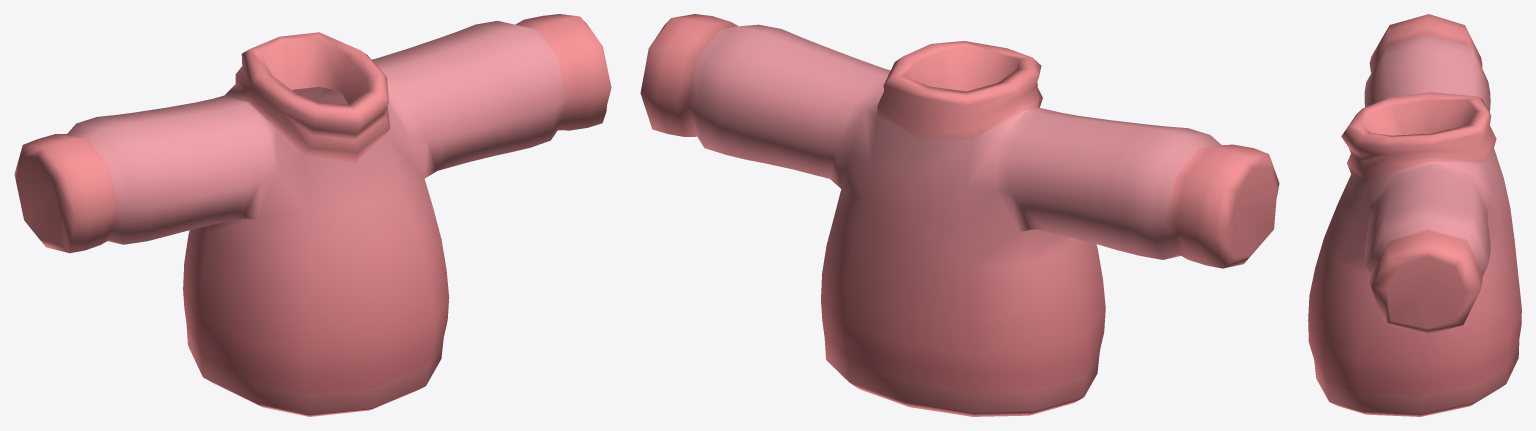
File: Top_23.fbx
3 renders of one model, left to right at view 1: azimuth 30°, elevation 25°; view 2: azimuth 150°, elevation 25°; view 3: azimuth 270°, elevation 25°, orthographic. The views are drawn at different scales.
Visible parts, largest first — view 1: Top_23; view 2: Top_23; view 3: Top_23.
Boxes of the visible parts, box(x1,y1,x2,y2) form: Top_23: box(14, 14, 611, 416); Top_23: box(640, 14, 1279, 416); Top_23: box(1308, 14, 1521, 416).
Size of the model in its own units: 98 by 52.42 by 37.16.
